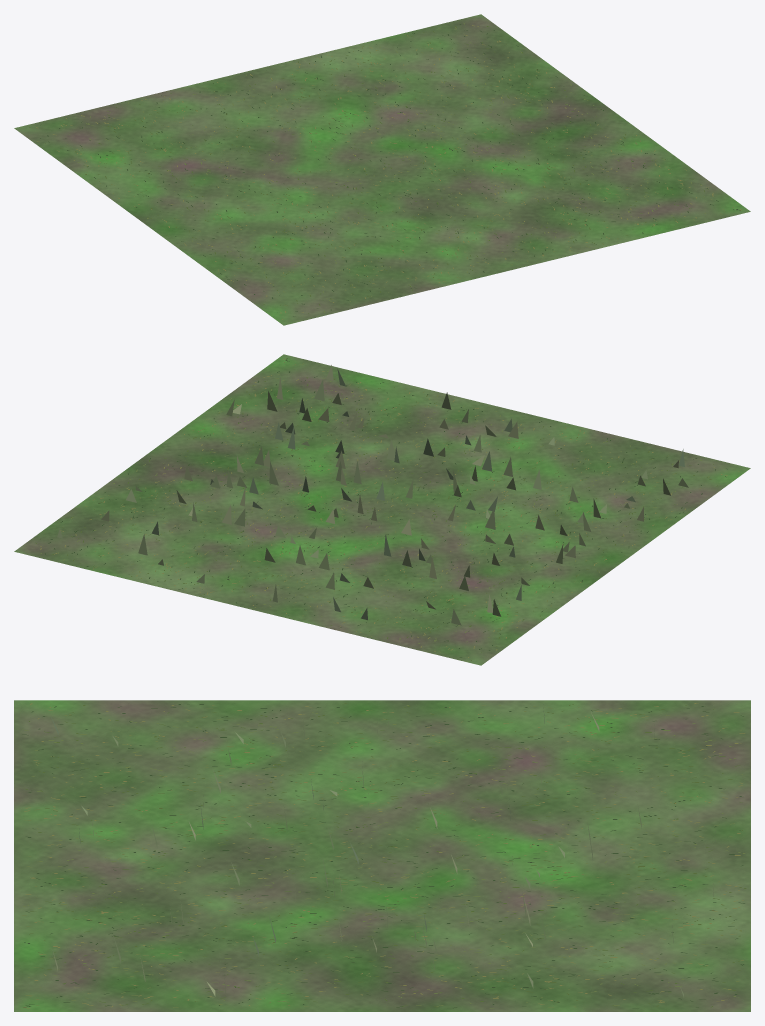
Rendered from E07_SOLOZ2_P1_GRAMADO_IRREGULAR_BASE.glb.
3 views of the same model, one above another, from view 1: azimuth 30°, elevation 25°; view 2: azimuth 150°, elevation 25°; view 3: azimuth 270°, elevation 25° (orthographic). The views are drawn at different scales.
Visible parts, largest first — view 1: piso_2x2_texturizado; view 2: piso_2x2_texturizado, grama_folhas_tridimensionais; view 3: piso_2x2_texturizado, grama_folhas_tridimensionais.
Part boxes in pixels (x1,y1,x2,y2): piso_2x2_texturizado: (14, 14, 750, 325); piso_2x2_texturizado: (14, 354, 750, 665); grama_folhas_tridimensionais: (57, 365, 688, 625); piso_2x2_texturizado: (14, 700, 750, 1011); grama_folhas_tridimensionais: (51, 704, 715, 997).
Size of the model in its own units: 2 by 0.0962 by 2.
Materials: 1 (1 with a texture image).
